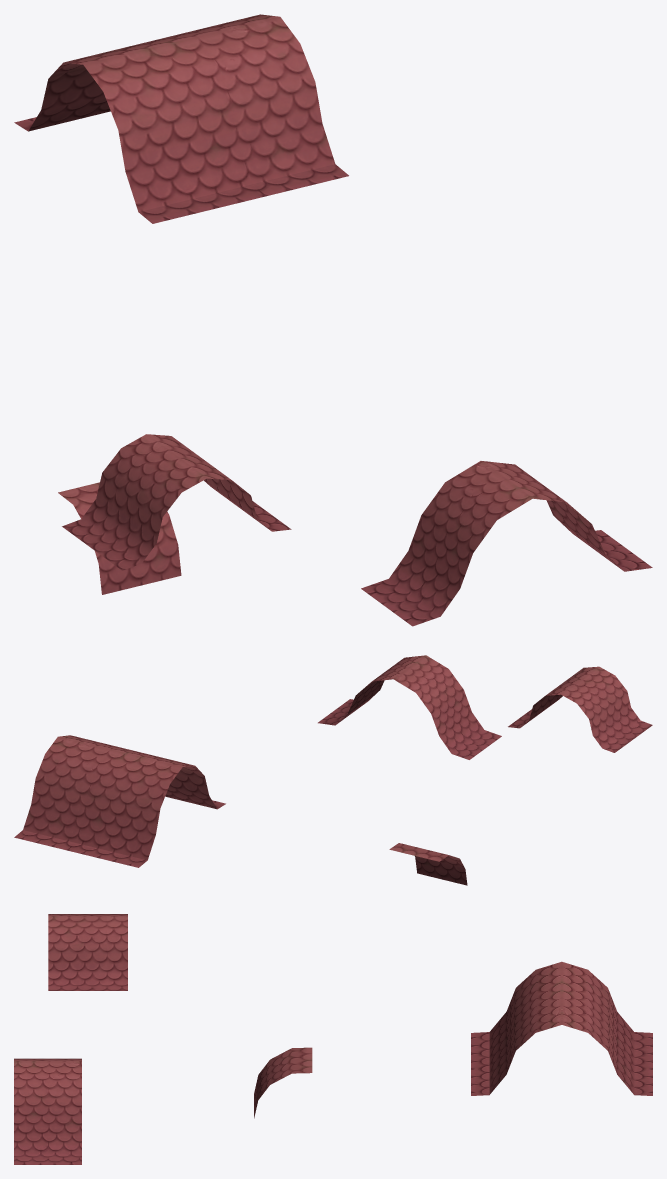
Rendered from scene_luoliante_dlqgf03.FBX.
3 views of the same model, one above another, from view 1: azimuth 30°, elevation 25°; view 2: azimuth 150°, elevation 25°; view 3: azimuth 270°, elevation 25° (orthographic). The views are drawn at different scales.
Parts seen in each view (by area): view 1: sence_luoliante_dlqgf03; view 2: sence_luoliante_dlqgf03; view 3: sence_luoliante_dlqgf03.
Boxes of the visible parts, left/top/right/bottom form: sence_luoliante_dlqgf03: left=14, top=14, right=652, bottom=626; sence_luoliante_dlqgf03: left=14, top=655, right=652, bottom=885; sence_luoliante_dlqgf03: left=14, top=914, right=652, bottom=1164.
Size of the model in its own units: 619 by 330 by 951.
